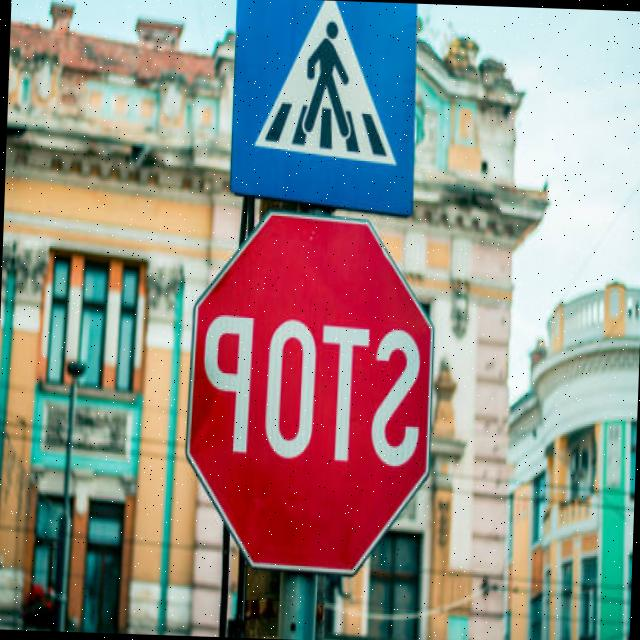crosswalk: (219, 0, 426, 220)
